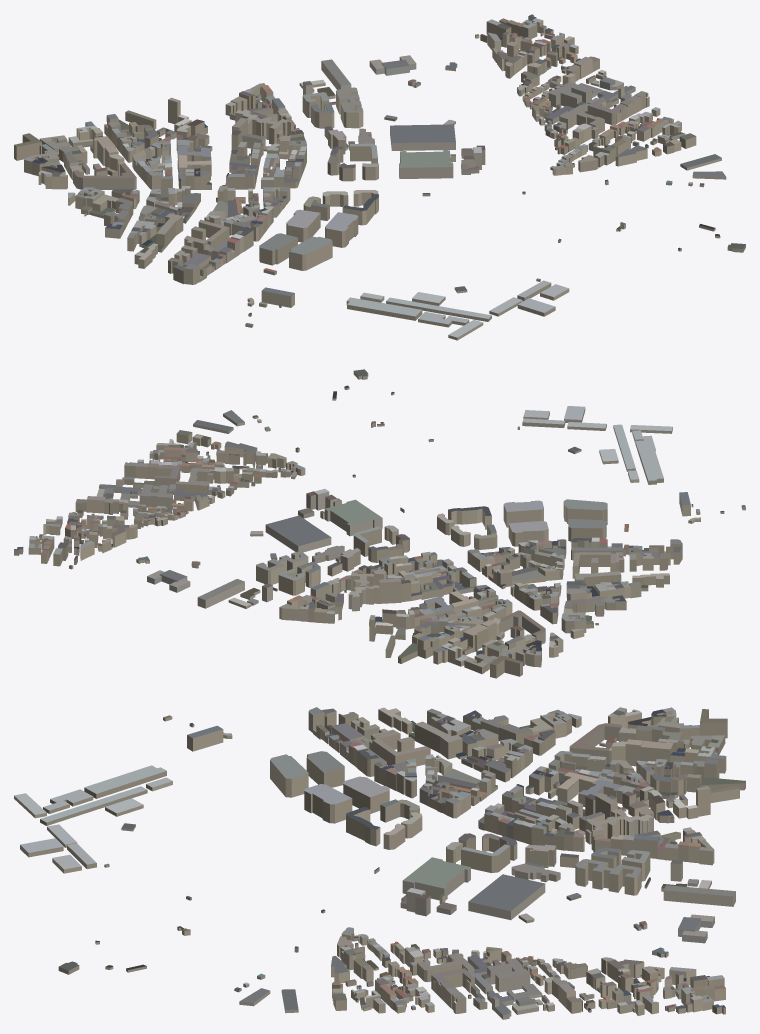
3 renders of one model, top to bottom at view 1: azimuth 30°, elevation 25°; view 2: azimuth 150°, elevation 25°; view 3: azimuth 270°, elevation 25°, orthographic. The views are drawn at different scales.
Visible parts, largest first — view 1: tuile; view 2: tuile; view 3: tuile.
Boxes of the visible parts, bbox=[...] form: tuile: bbox=[14, 14, 745, 340]; tuile: bbox=[14, 369, 745, 678]; tuile: bbox=[14, 707, 745, 1019].
Bounding box in the file's own units: 1035 × 49.64 × 1040.
